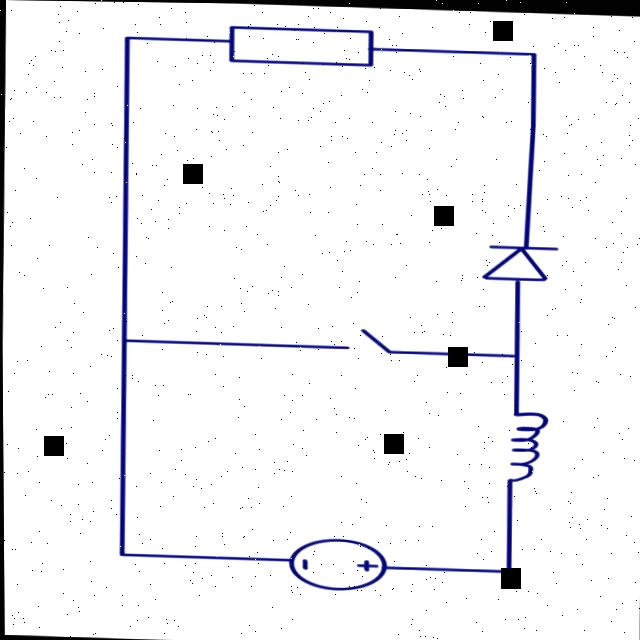diode: (457, 226, 571, 291)
inductor: (474, 390, 561, 500)
resistor: (201, 13, 408, 74)
source: (261, 530, 401, 595)
switch: (311, 319, 424, 366)
